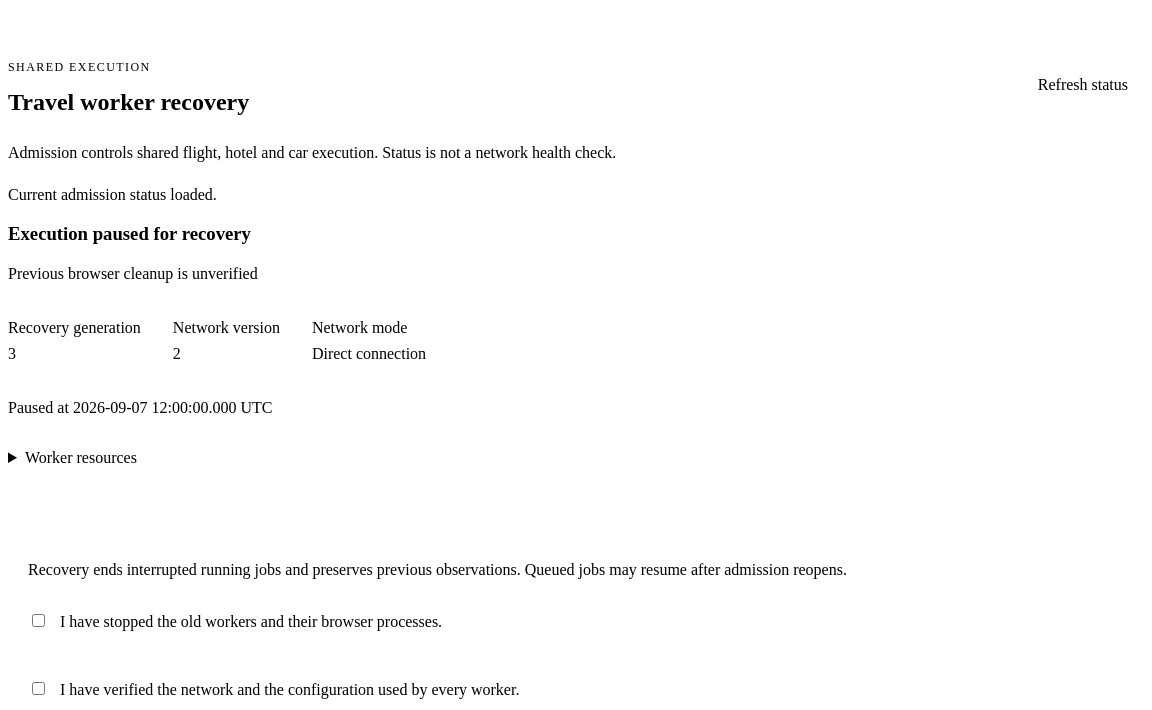
Test: explicit administrator travel recovery › does not carry checked assertions to another administrator with the same incident generation
Check: the text "Previous browser cleanup is unverified" is shown, box [8, 265, 258, 282]
Click the checkbox labelled "I have stopped the old workers and their browser processes.": [38, 621] box [32, 614, 45, 627]
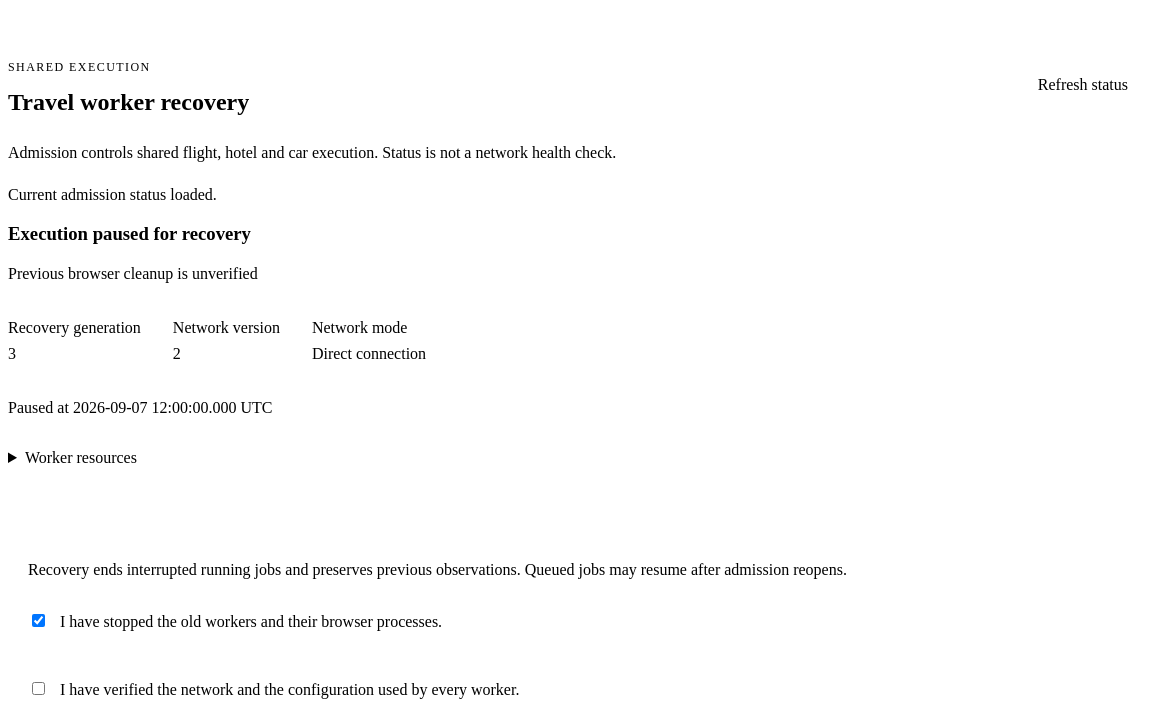
Click the checkbox labelled "I have verified the network and the configuration used by every worker.": [38, 689] box [32, 682, 45, 695]
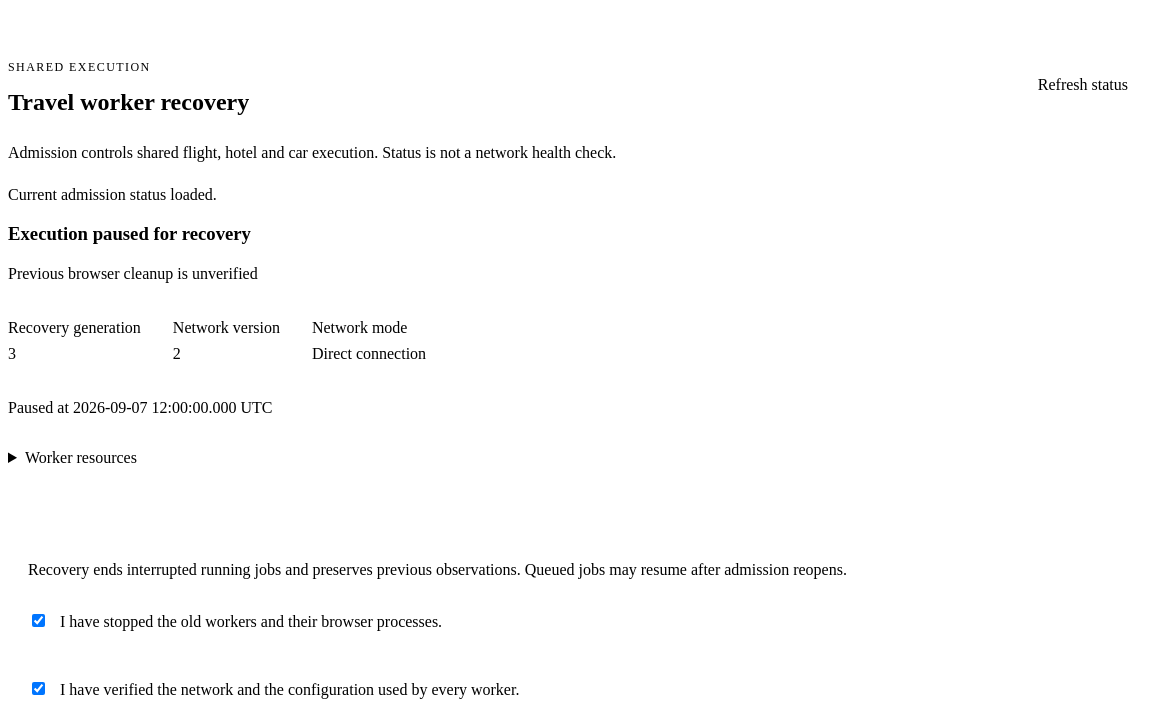
Click the button "Refresh status": [1083, 85] box [1022, 63, 1144, 107]
(page scrolled)
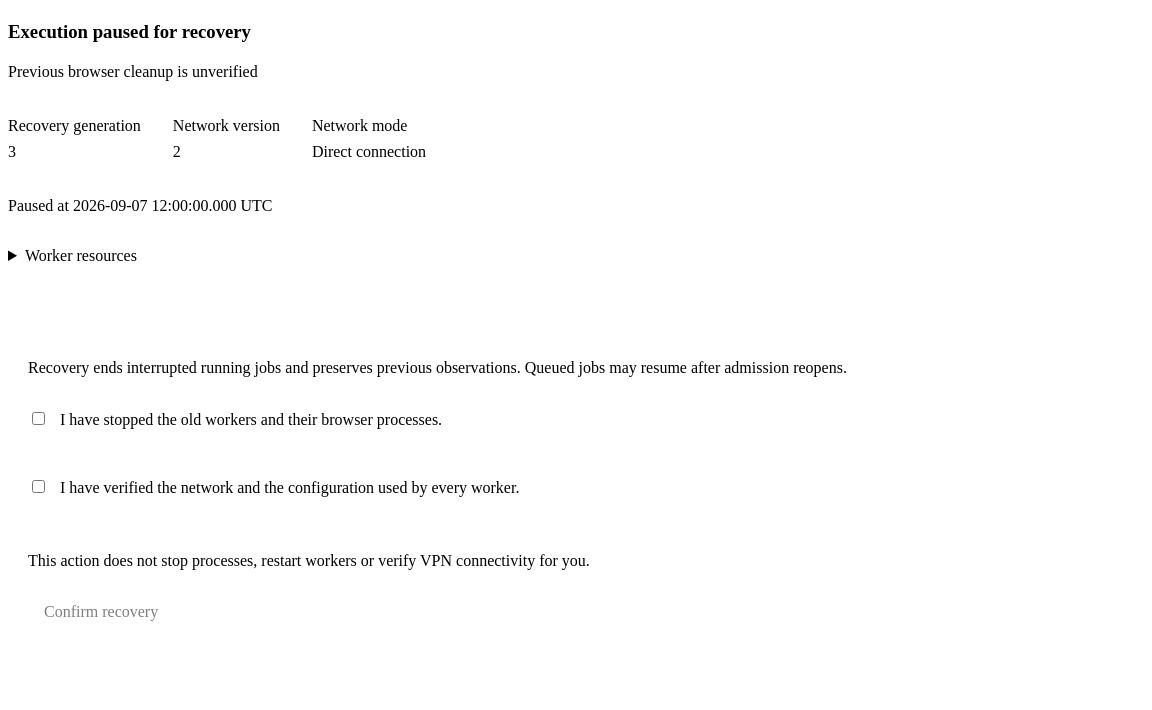
Check: the checkbox labelled "I have stopped the old workers and their browser processes." is not checked, box [32, 412, 45, 425]
Check: the button "Confirm recovery" is disabled, box [28, 590, 174, 634]
